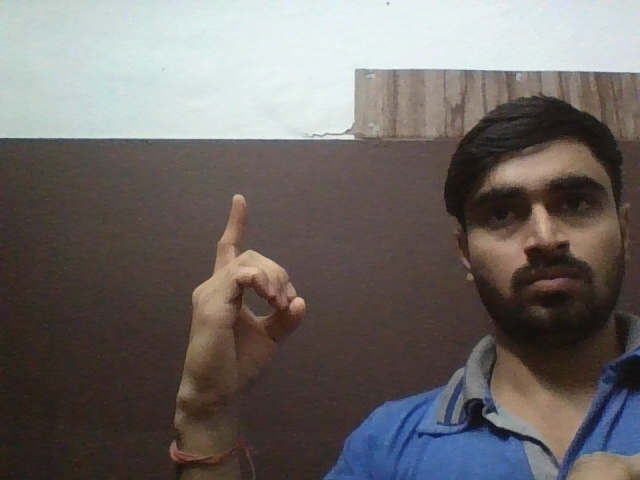D: (166, 185, 324, 399)
